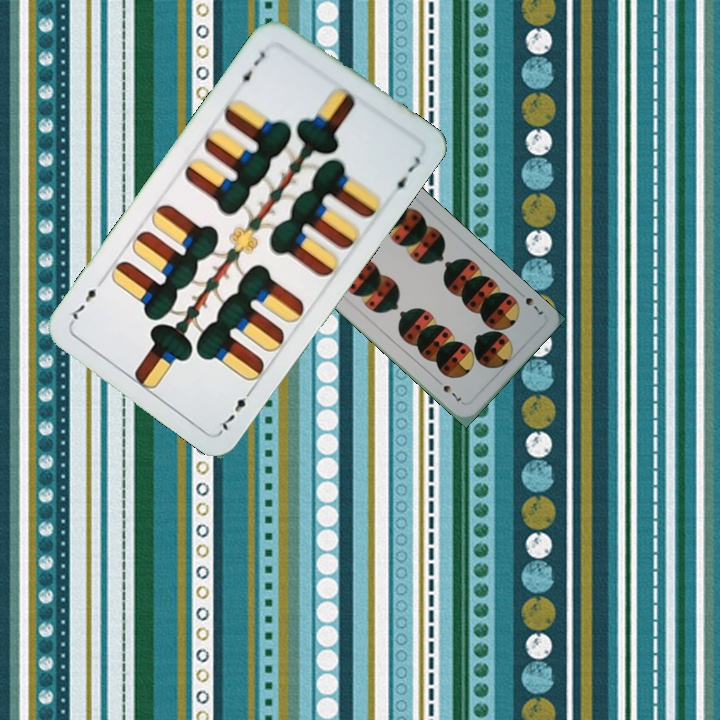E7: (216, 383, 257, 436), (233, 47, 268, 89)
S7: (521, 293, 546, 317)
